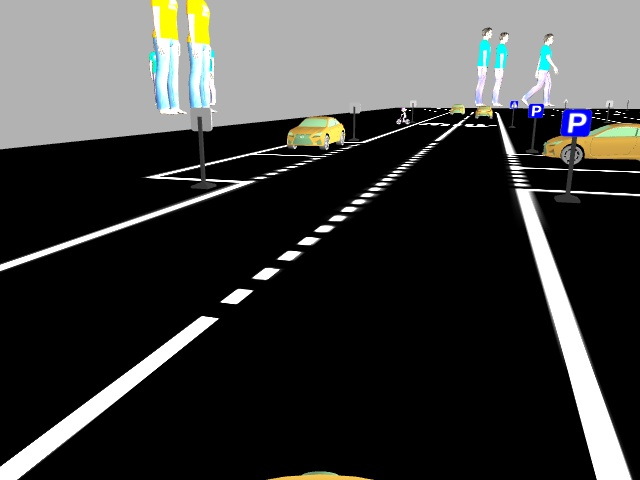Parking: (560, 106, 590, 136), (526, 101, 544, 119)
